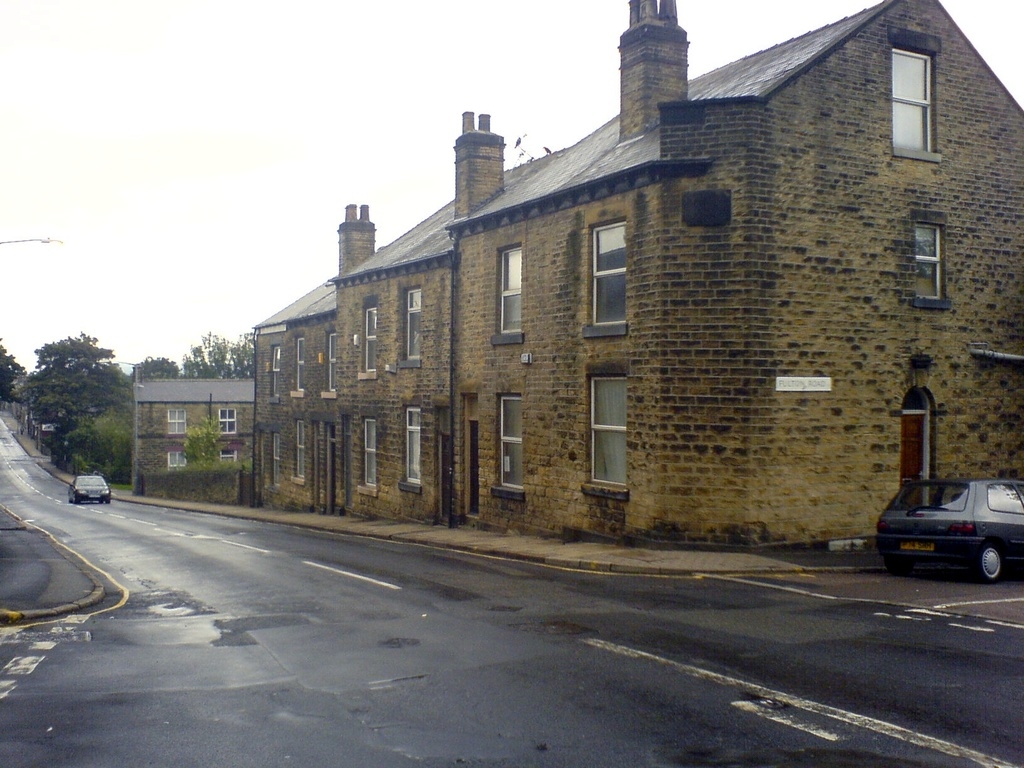Car: (876, 479, 1023, 586), (66, 474, 111, 503)
